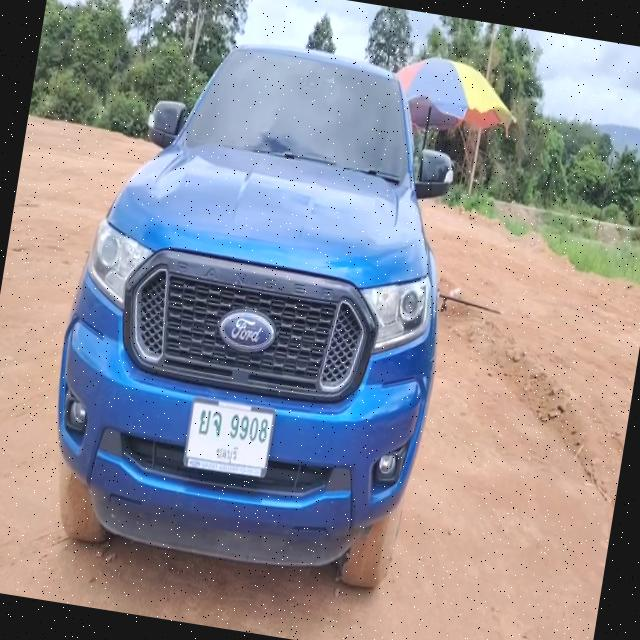Digit: (227, 411, 270, 446)
Licenseplate: (182, 399, 276, 479)
Provincename: (214, 442, 240, 466)
Thaichar: (197, 406, 224, 438)
